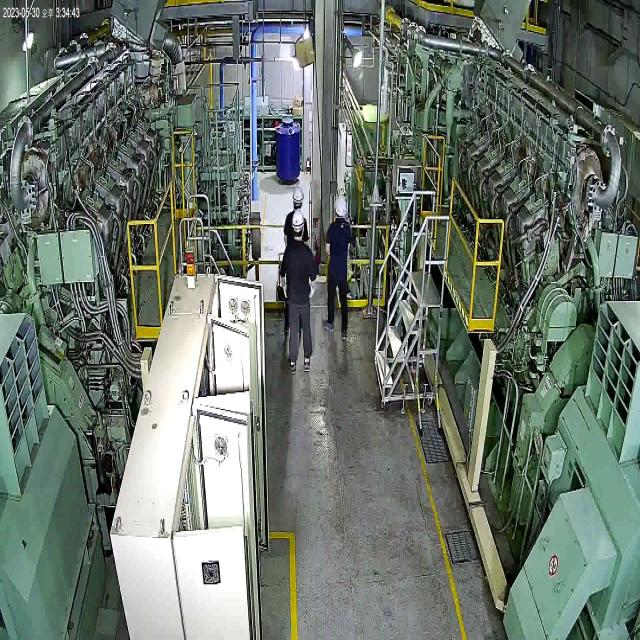Water Tank: (273, 110, 302, 186)
worker: (275, 202, 320, 376), (280, 184, 314, 338), (323, 190, 354, 356)
